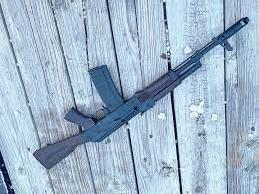larga: (32, 16, 250, 170)
